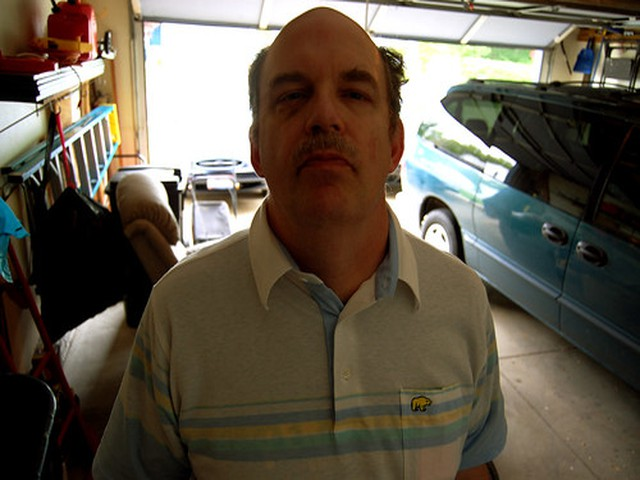Person: (112, 5, 512, 467)
